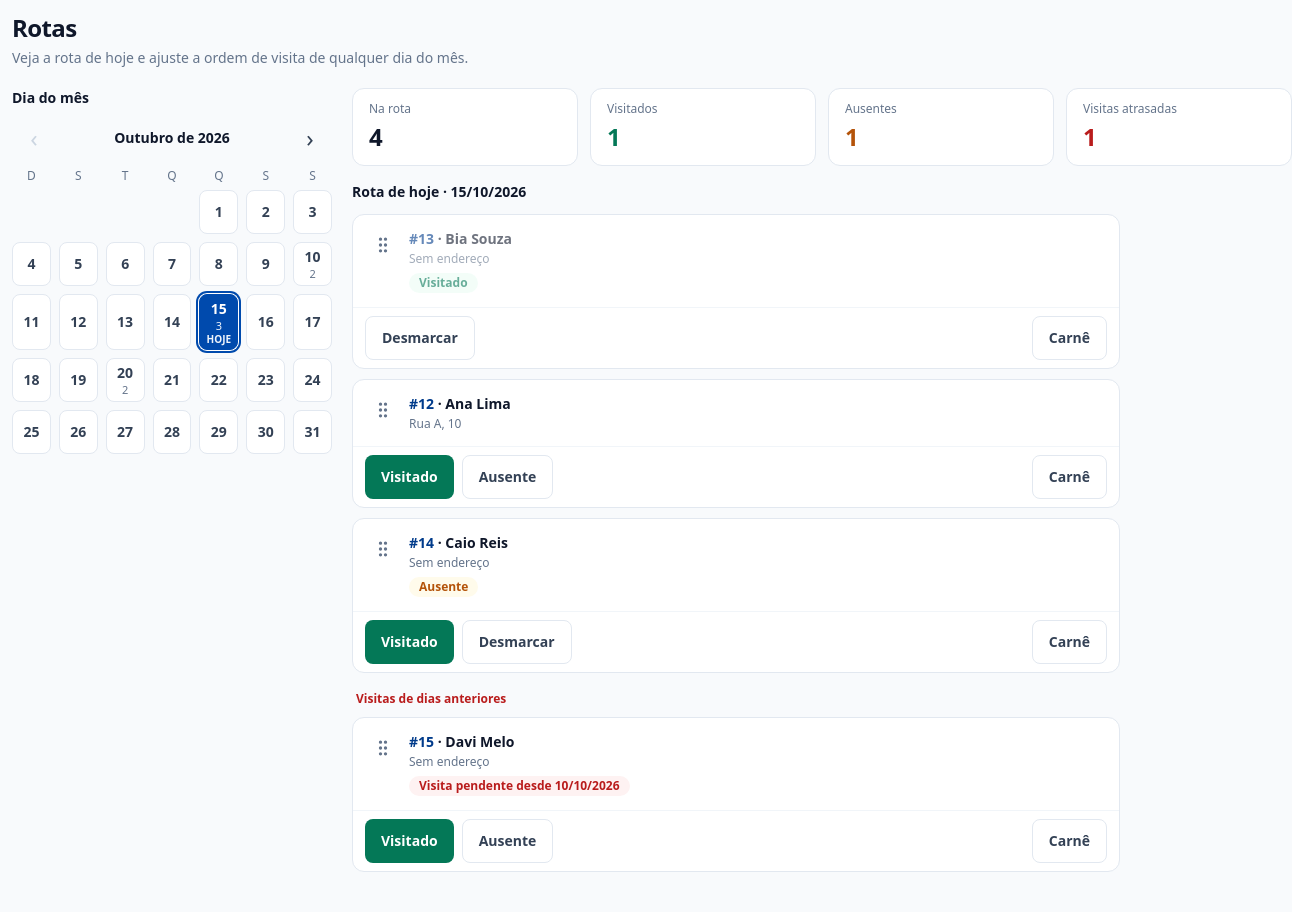
Test case: RotasPage — calendário › escolher hoje de novo volta para a rota com marcas
What coordinates should you click on to do the following:
click the button named "20 de outubro"
I would click on:
 (125, 380)
Its box is [106,358,145,402].
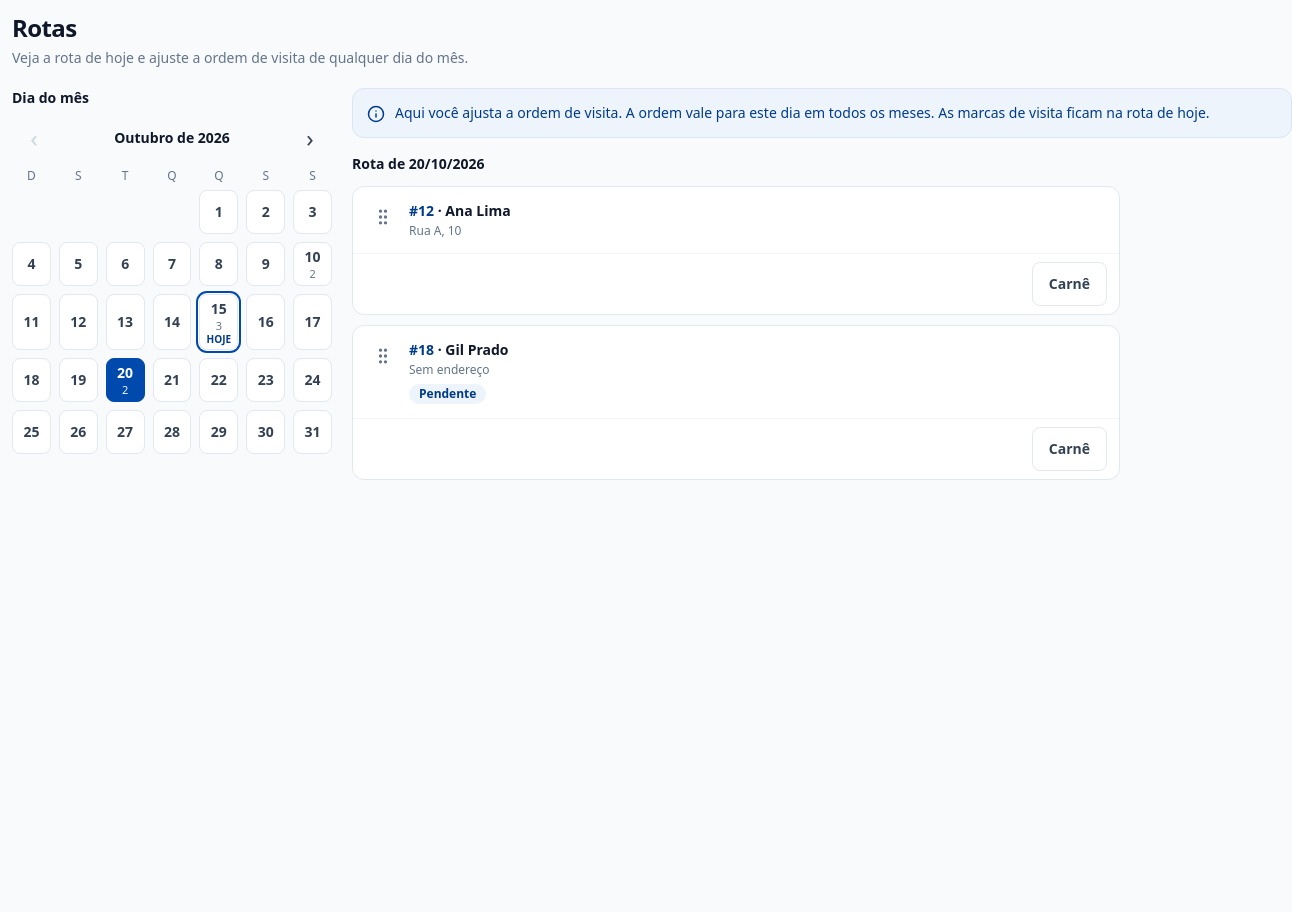
What coordinates should you click on to do the following:
click the button with aria-label "15 de outubro"
I would click on:
 (219, 322)
Its box is [199,294,238,350].
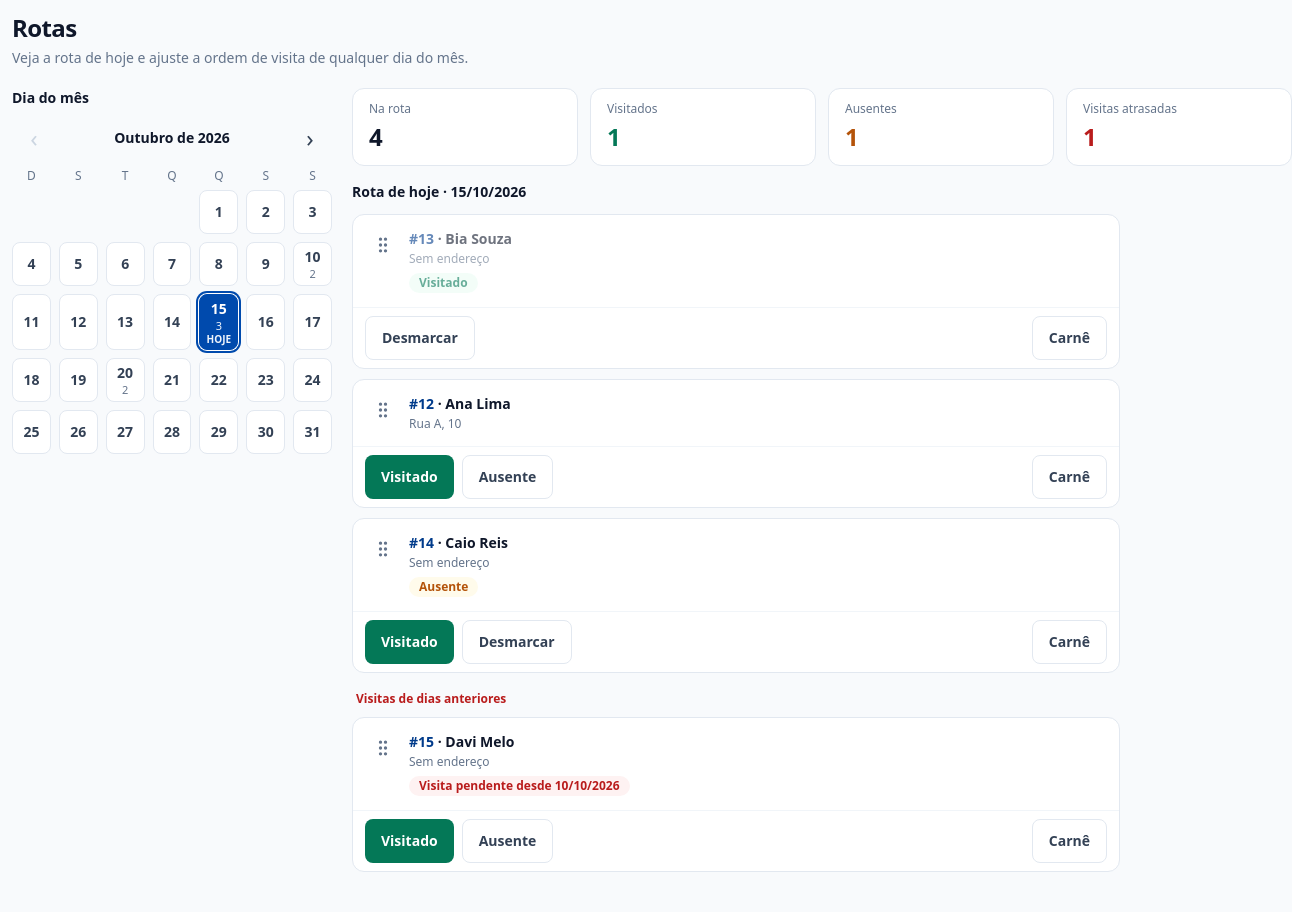
Expected: the heading "Rota de hoje · 15/10/2026" is shown, [352,182,526,201]
